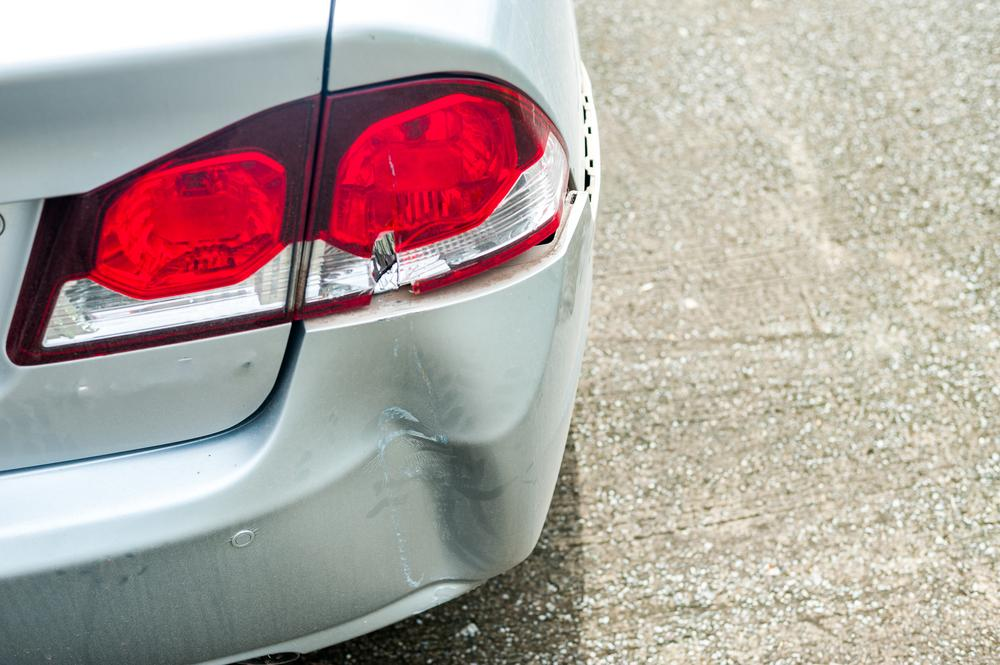dent: (322, 322, 531, 585)
lamp broken: (294, 70, 572, 320)
